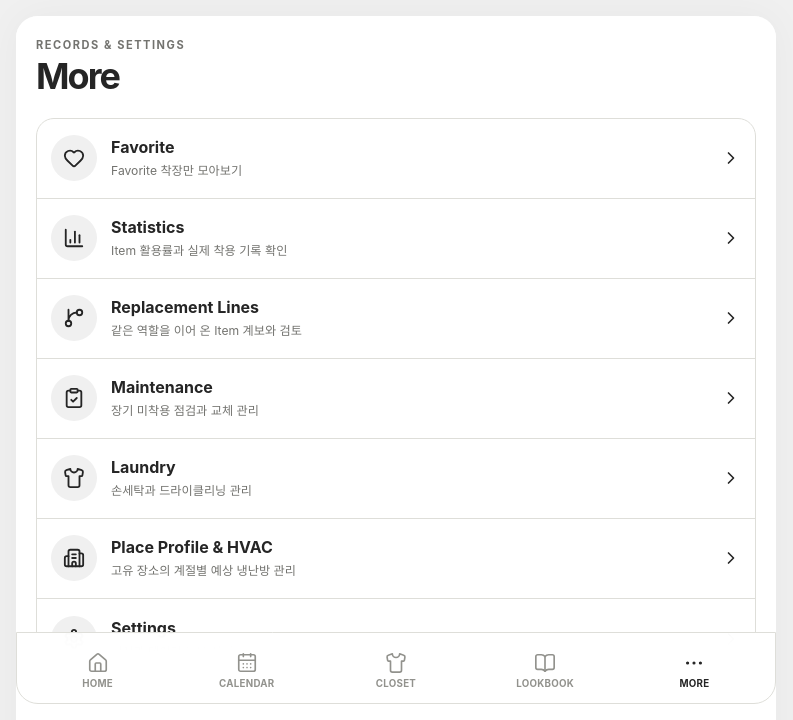
Test: P6-4 Maintenance flow › Laundry를 별도 페이지로 열고 세탁 관련 영역만 보여준다
Click the link "Laundry 손세탁과 드라이클리닝 관리" at [74, 478], box [37, 439, 755, 519]
(page scrolled)
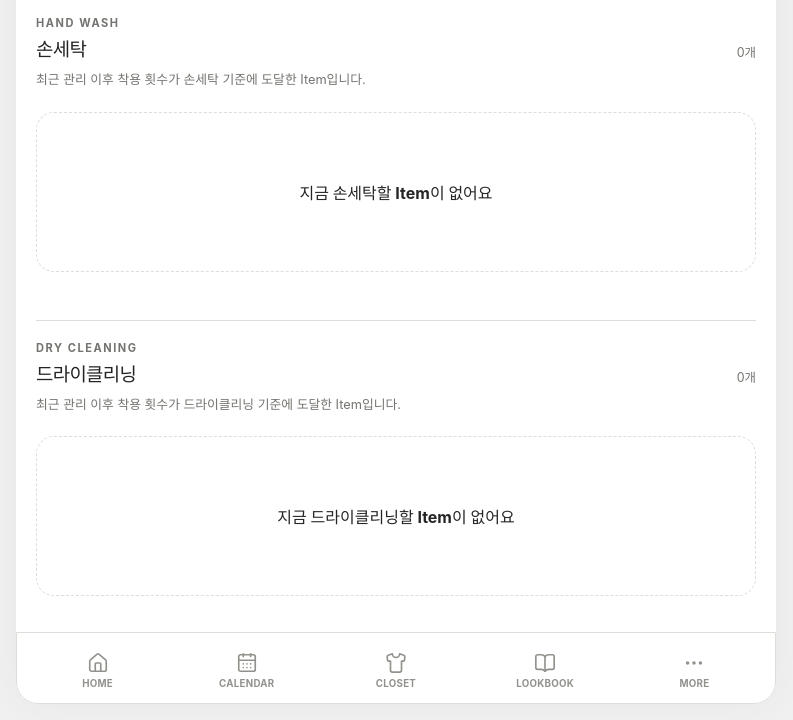
Now the element "드라이클리닝" shows "0개", box [36, 320, 756, 596]
Now the link "점검" is gone
Now the link "교체" is gone
